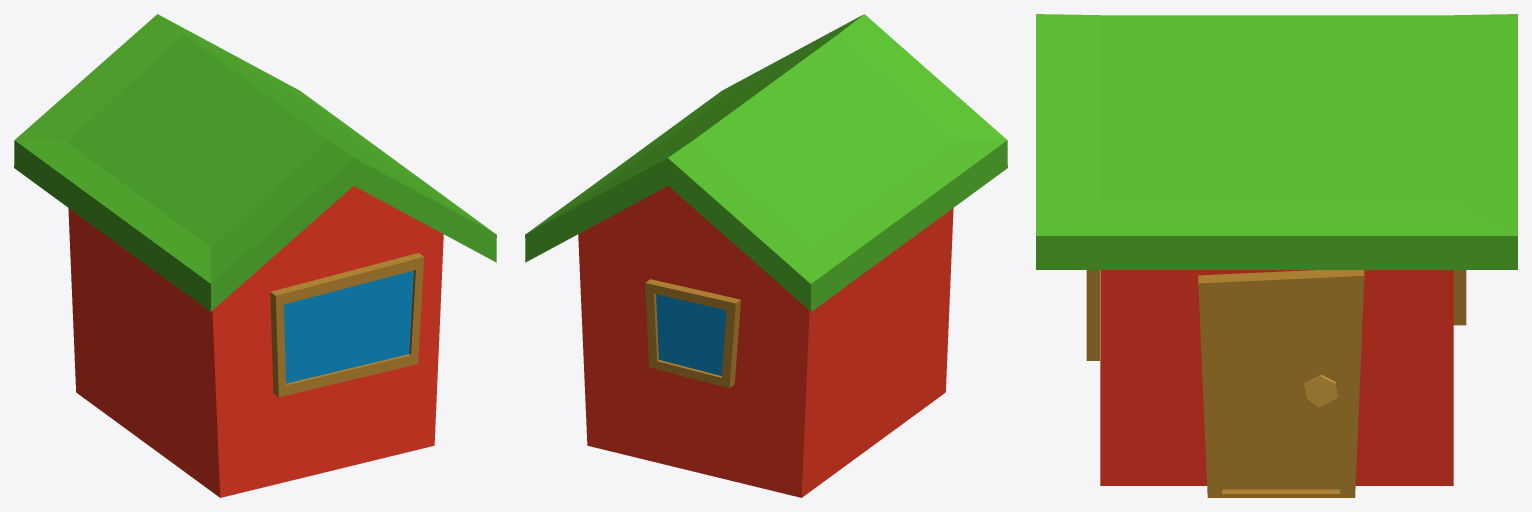
The model's file is House6.fbx.
The picture shows the model from 3 angles, left to right: view 1: azimuth 30°, elevation 25°; view 2: azimuth 150°, elevation 25°; view 3: azimuth 270°, elevation 25°; orthographic projection. The views are drawn at different scales.
Visible parts, largest first — view 1: Cube, Cube.004; view 2: Cube, Cube.002; view 3: Cube, Cube.001, Cube.004, Cylinder, Cube.002.
Part boxes in pixels (x1=…): Cube: x1=14, y1=14, x2=496, y2=497; Cube.004: x1=270, y1=253, x2=424, y2=397; Cube: x1=525, y1=14, x2=1007, y2=497; Cube.002: x1=645, y1=279, x2=740, y2=388; Cube: x1=1036, y1=14, x2=1517, y2=485; Cube.001: x1=1198, y1=270, x2=1364, y2=497; Cube.004: x1=1086, y1=270, x2=1099, y2=360; Cylinder: x1=1304, y1=374, x2=1337, y2=407; Cube.002: x1=1453, y1=270, x2=1466, y2=325.
Size of the model in its own units: 342 by 380 by 407.
